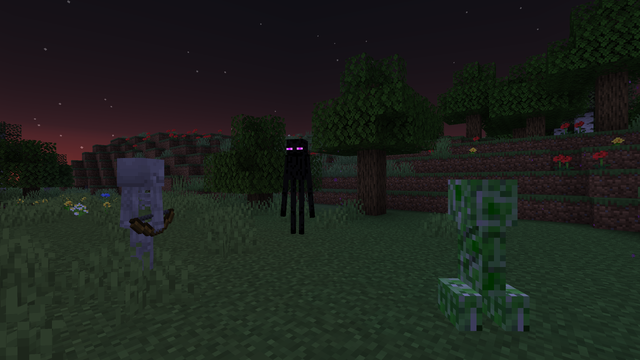creepers: (445, 172, 513, 341)
endermens: (283, 135, 311, 236)
squelettes: (116, 157, 165, 277)
